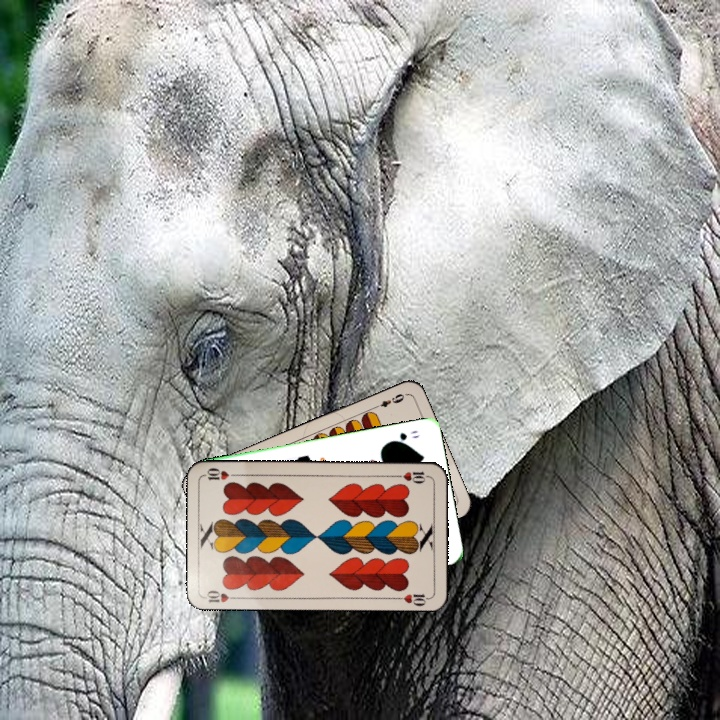E9: (370, 389, 409, 412)
GO: (385, 426, 422, 446)
H10: (201, 586, 242, 605), (391, 467, 431, 485)
